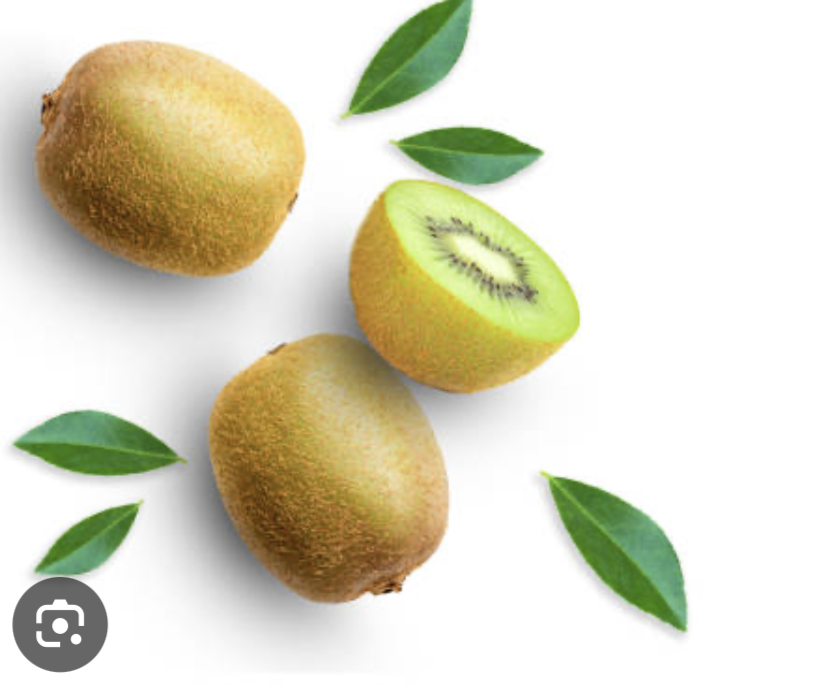kiwi: (175, 314, 484, 646), (10, 32, 363, 310)
